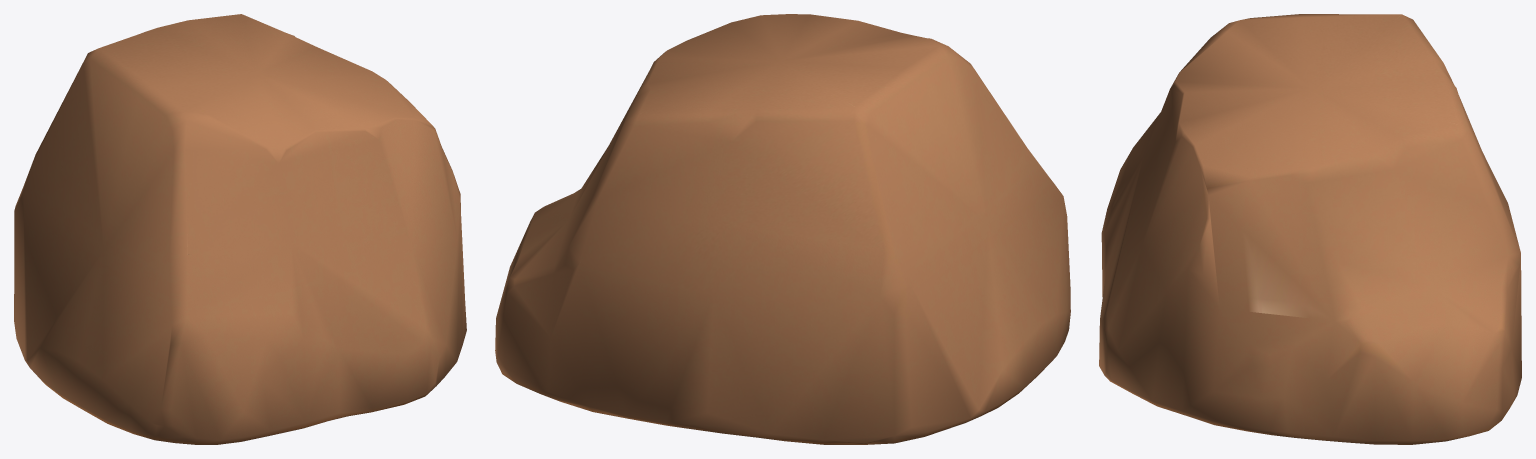
File: rock_3d_model.fbx
The picture shows the model from 3 angles, left to right: view 1: azimuth 30°, elevation 25°; view 2: azimuth 150°, elevation 25°; view 3: azimuth 270°, elevation 25°; orthographic projection. The views are drawn at different scales.
Visible parts, largest first — view 1: tripo_node_a9eac1ca; view 2: tripo_node_a9eac1ca; view 3: tripo_node_a9eac1ca.
Boxes of the visible parts, bbox=[...] form: tripo_node_a9eac1ca: bbox=[14, 14, 466, 444]; tripo_node_a9eac1ca: bbox=[495, 14, 1070, 444]; tripo_node_a9eac1ca: bbox=[1099, 14, 1521, 444].
Size of the model in its own units: 0.998 by 0.6582 by 0.8965.
